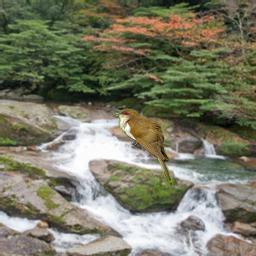Cuckoo: (112, 108, 173, 187)
